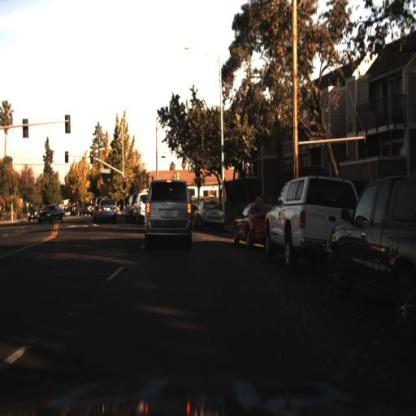car: (328, 168, 416, 314), (263, 172, 366, 268), (264, 175, 330, 276), (141, 171, 194, 254), (233, 199, 267, 252), (192, 197, 230, 236), (35, 199, 65, 224), (132, 191, 153, 225), (94, 199, 119, 226), (134, 193, 152, 220), (101, 199, 118, 226), (78, 198, 94, 220), (124, 195, 136, 221)
trafficLight-Red: (8, 180, 16, 197), (63, 147, 71, 163), (87, 151, 95, 165), (123, 174, 128, 195), (90, 152, 96, 169), (123, 176, 129, 188)
trafficLight-RedLeft: (64, 149, 72, 167)
